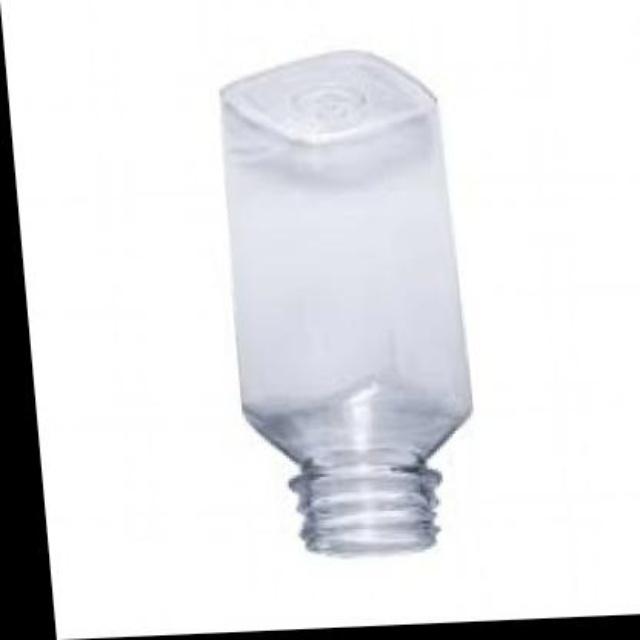trash: (222, 51, 469, 552)
